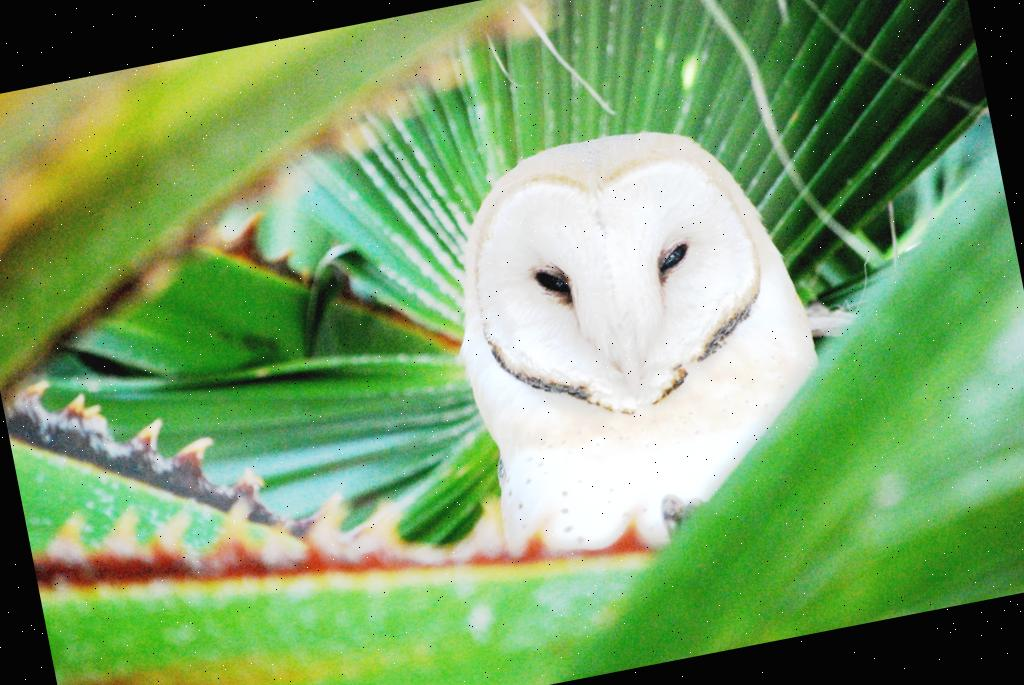Owl: (421, 96, 850, 578)
